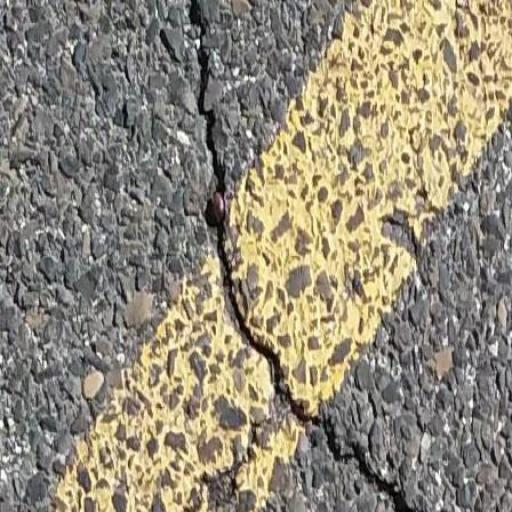spalling: (179, 0, 416, 512)
